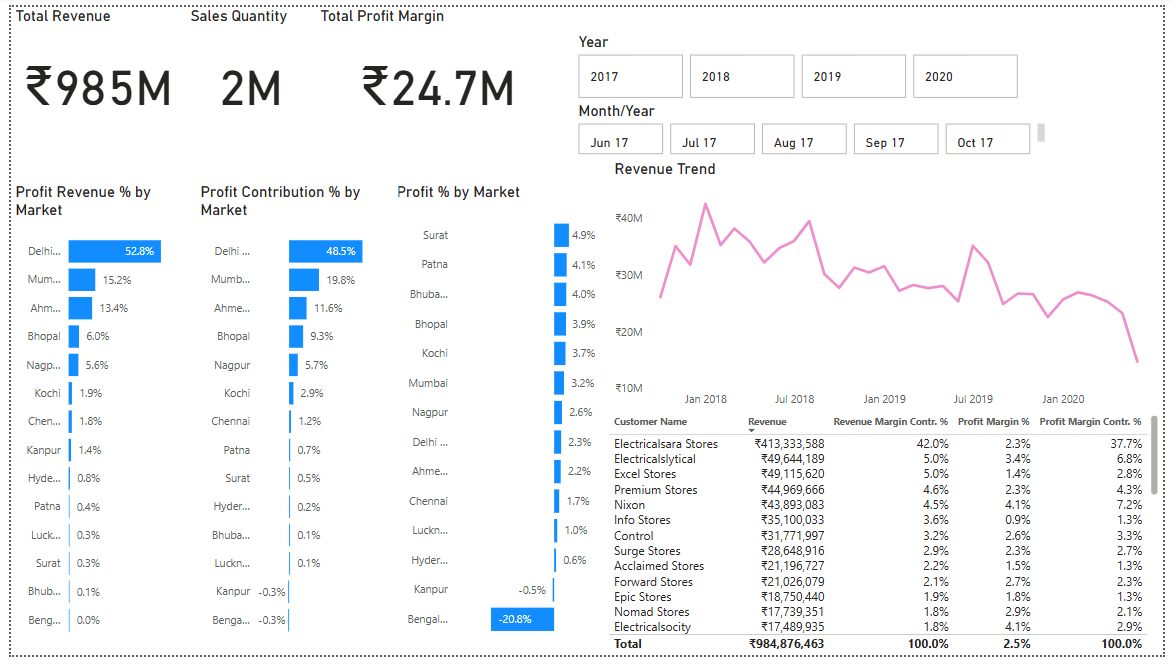

The dashboard page shown, as its layout file describes it:
{"tool":"powerbi","page":{"name":"Profit analysis","canvas":[1280,720],"ordinal":0},"visuals":[{"type":"card","title":"Total Revenue","fields":{"Values":["BaseMeasures.Revenue"]},"box":[0,0,193.9,147.2],"z":0},{"type":"card","title":"Sales Quantity","fields":{"Values":["BaseMeasures.Sales Qty"]},"box":[193.9,0,144.5,147.2],"z":1000},{"type":"barChart","title":"Profit % by Market","fields":{"Y":["BaseMeasures.Profit margin %"],"Category":["sales markets.markets_name"]},"box":[423.7,195.7,230.7,516.2],"z":2000},{"type":"barChart","title":"Profit Contribution % by Market","fields":{"Y":["BaseMeasures.Profit Margin Contribution %"],"Category":["sales markets.markets_name"]},"box":[205.6,195.7,225.3,516.2],"z":3000},{"type":"advancedSlicerVisual","title":"Year","fields":{"Values":["sales date.year"]},"box":[625.3,28.5,499.4,77.6],"z":4000},{"type":"advancedSlicerVisual","title":"Month/Year","fields":{"Values":["sales date.cy_date"]},"box":[625.3,106.1,528.7,63.8],"z":5000},{"type":"tableEx","title":"Top 5 customers","fields":{"Values":["sales customers.custmer_name","BaseMeasures.Revenue","BaseMeasures.Revenue Margin Contribution %","BaseMeasures.Profit margin %","BaseMeasures.Profit Margin Contribution %"]},"box":[659,448,621.2,272],"z":6000},{"type":"lineChart","title":"Revenue Trend","fields":{"Y":["BaseMeasures.Revenue"],"Category":["sales date.cy_date Hierarchy.cy_date"]},"box":[665,169.9,615,283.8],"z":7000},{"type":"card","title":"Total Profit Margin","fields":{"Values":["BaseMeasures.Total Profit Margin"]},"box":[338.5,0,271.1,147.2],"z":8000},{"type":"barChart","title":"Profit Revenue % by Market","fields":{"Y":["BaseMeasures.Revenue Margin Contribution %"],"Category":["sales markets.markets_name"]},"box":[0,195.7,205.6,516.2],"z":9000}]}

Visuals, with their boxes in screenshot pixels (x1, y1, x2, y2), scaled from the page's 1280x720 canvas onto the 1172x667 screenshot:
"Total Revenue" card: (0, 0, 178, 136)
"Sales Quantity" card: (178, 0, 310, 136)
"Profit % by Market" barChart: (388, 181, 599, 659)
"Profit Contribution % by Market" barChart: (188, 181, 395, 659)
"Year" advancedSlicerVisual: (573, 26, 1030, 98)
"Month/Year" advancedSlicerVisual: (573, 98, 1057, 157)
"Top 5 customers" tableEx: (603, 415, 1171, 666)
"Revenue Trend" lineChart: (609, 157, 1171, 420)
"Total Profit Margin" card: (310, 0, 558, 136)
"Profit Revenue % by Market" barChart: (0, 181, 188, 659)
